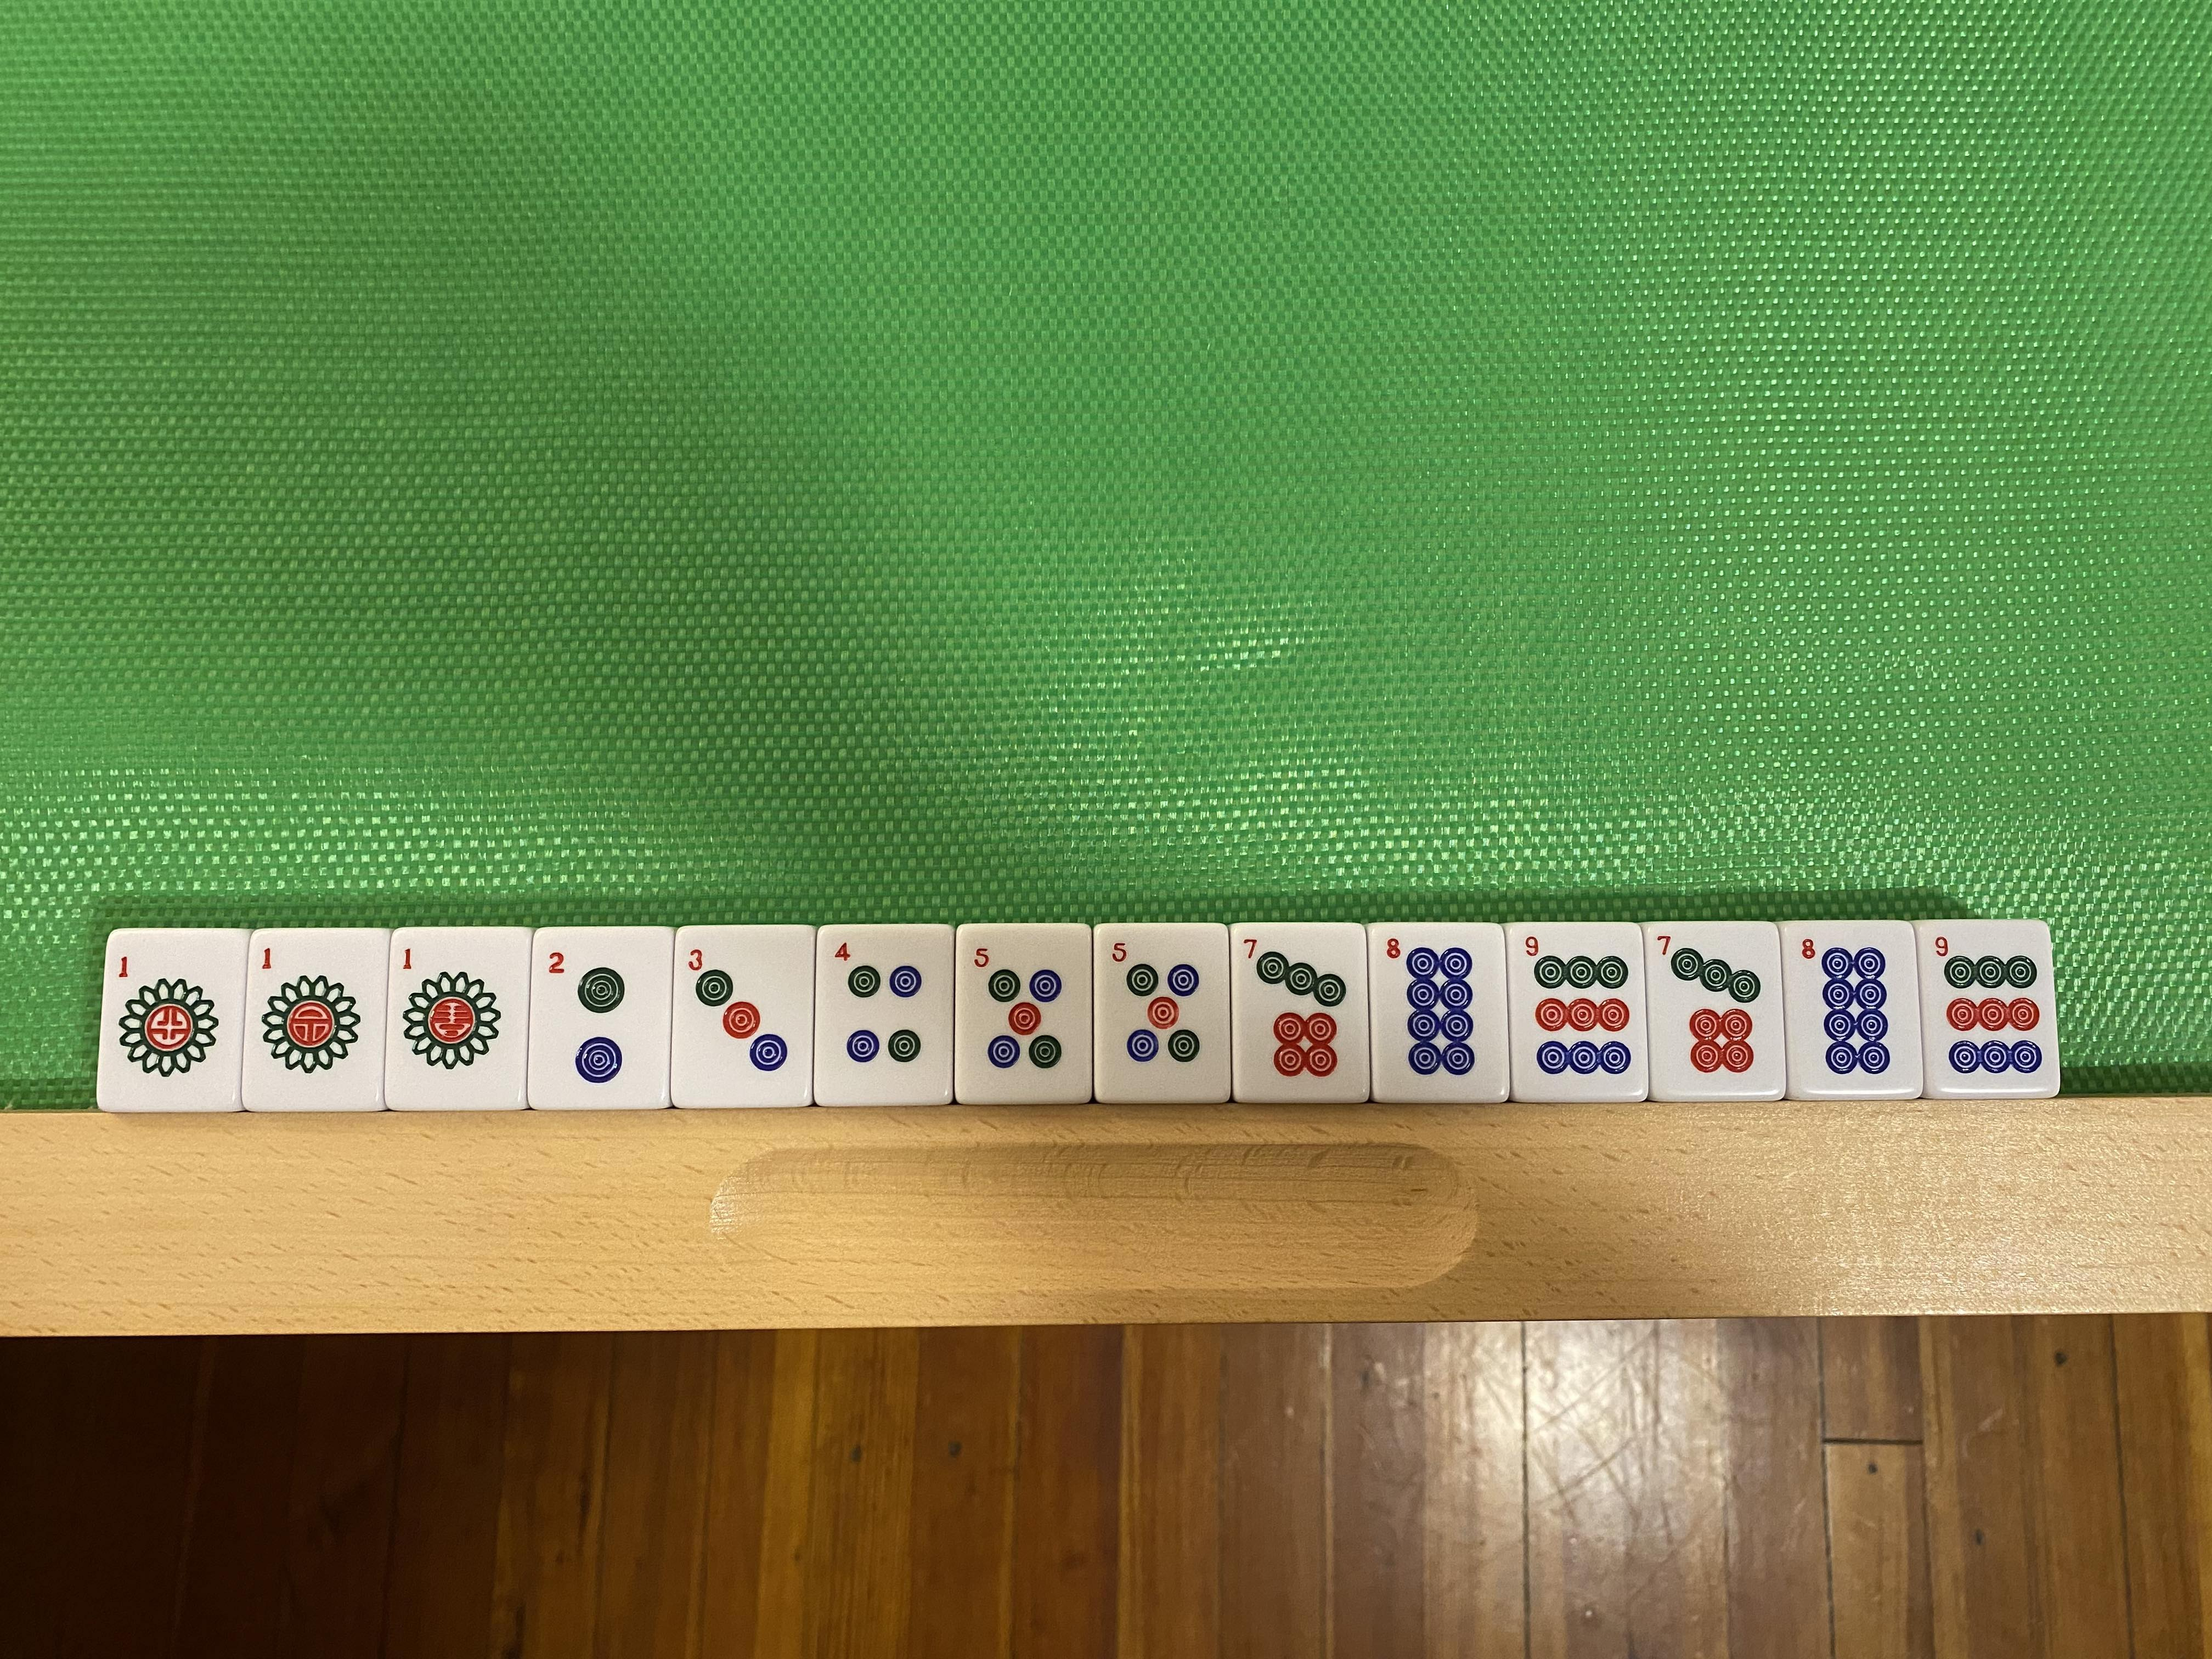circle-eight: (1372, 924, 1505, 1105), (1791, 924, 1914, 1094)
circle-five: (958, 925, 1092, 1105), (1097, 925, 1228, 1100)
circle-four: (815, 927, 954, 1105)
circle-nine: (1512, 925, 1642, 1101), (1926, 924, 2052, 1094)
circle-one: (387, 931, 531, 1112), (246, 934, 385, 1107), (110, 931, 235, 1110)
circle-seven: (1233, 925, 1366, 1101), (1651, 925, 1780, 1094)
circle-three: (676, 931, 813, 1107)
circle-two: (533, 932, 674, 1107)
